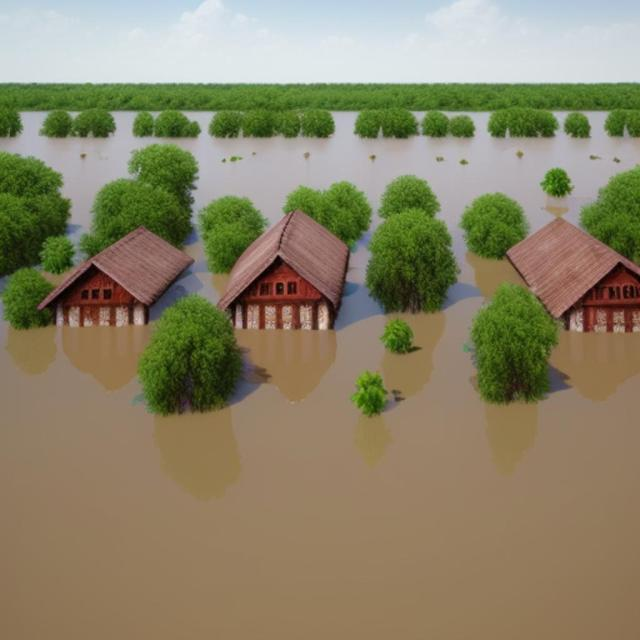flood: (0, 298, 640, 640), (0, 111, 640, 370), (149, 240, 229, 321)
house: (34, 227, 198, 326), (218, 210, 353, 328), (518, 216, 640, 333)
